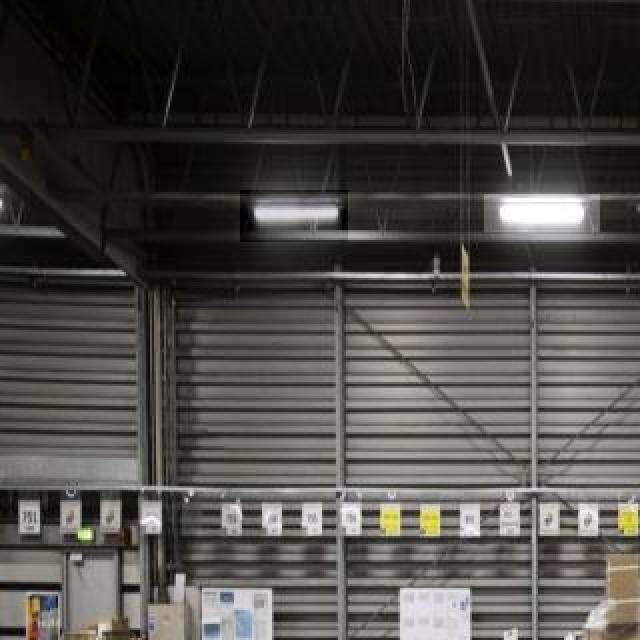fluorescent tube: (474, 192, 602, 232), (235, 188, 358, 228)
